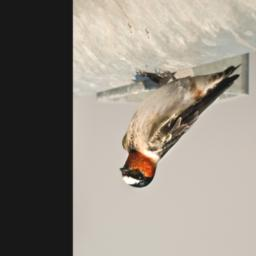Swallow: (118, 64, 243, 191)
